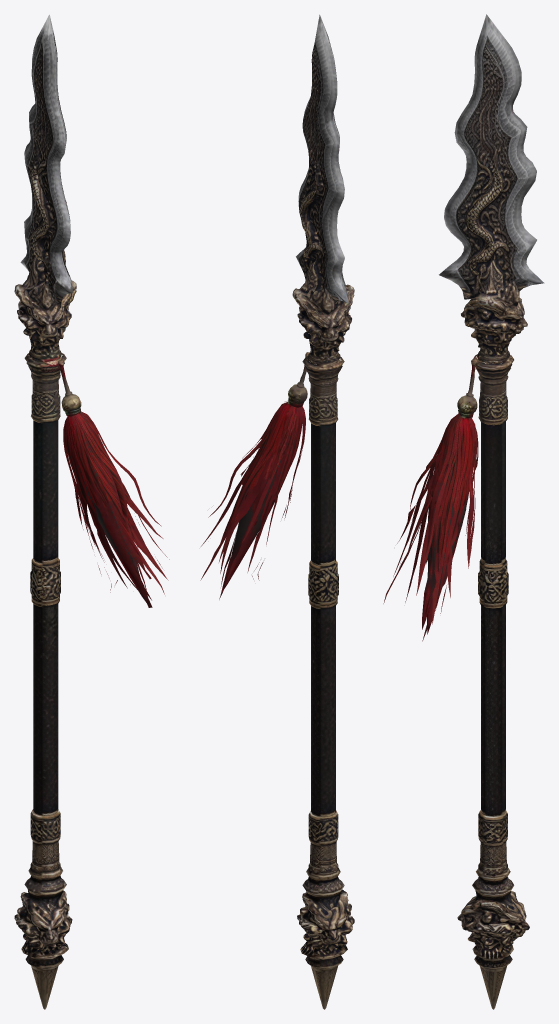
The model's file is serpent_spear.glb.
3 views of the same model, side by side, from view 1: azimuth 30°, elevation 25°; view 2: azimuth 210°, elevation 25°; view 3: azimuth 270°, elevation 25° (orthographic).
Parts seen in each view (by area): view 1: b0e4c944_1f32_48b2_9a06_38696e1aa6e5; view 2: b0e4c944_1f32_48b2_9a06_38696e1aa6e5; view 3: b0e4c944_1f32_48b2_9a06_38696e1aa6e5.
Boxes of the visible parts, box(x1,y1,x2,y2) form: b0e4c944_1f32_48b2_9a06_38696e1aa6e5: box(14, 14, 169, 1009); b0e4c944_1f32_48b2_9a06_38696e1aa6e5: box(200, 14, 354, 1009); b0e4c944_1f32_48b2_9a06_38696e1aa6e5: box(383, 14, 544, 1009).
Bounding box in the file's own units: 0.127 × 0.9995 × 0.1466.
Materials: 1 (1 with a texture image).
